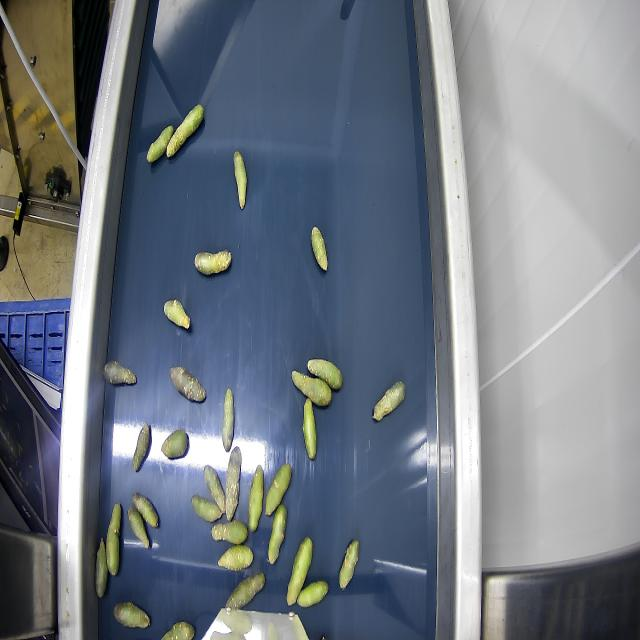Baby Potato: (166, 102, 204, 156), (286, 535, 313, 606), (105, 498, 125, 578), (225, 573, 266, 612), (291, 370, 331, 407), (133, 487, 167, 529), (372, 380, 405, 422), (265, 463, 291, 516), (169, 365, 205, 403), (266, 505, 286, 572), (306, 356, 346, 389), (225, 447, 241, 520), (126, 512, 152, 556), (339, 538, 359, 592), (146, 125, 172, 166), (216, 543, 254, 571), (205, 463, 226, 513), (248, 466, 264, 530), (113, 600, 149, 628), (194, 249, 232, 275), (297, 579, 329, 608), (132, 422, 150, 472), (163, 297, 192, 328), (302, 396, 316, 460), (104, 359, 136, 386), (212, 520, 248, 544), (190, 495, 222, 522), (160, 428, 188, 458), (233, 150, 247, 209), (310, 225, 328, 270), (222, 386, 234, 452), (161, 618, 197, 640), (95, 539, 107, 597)
